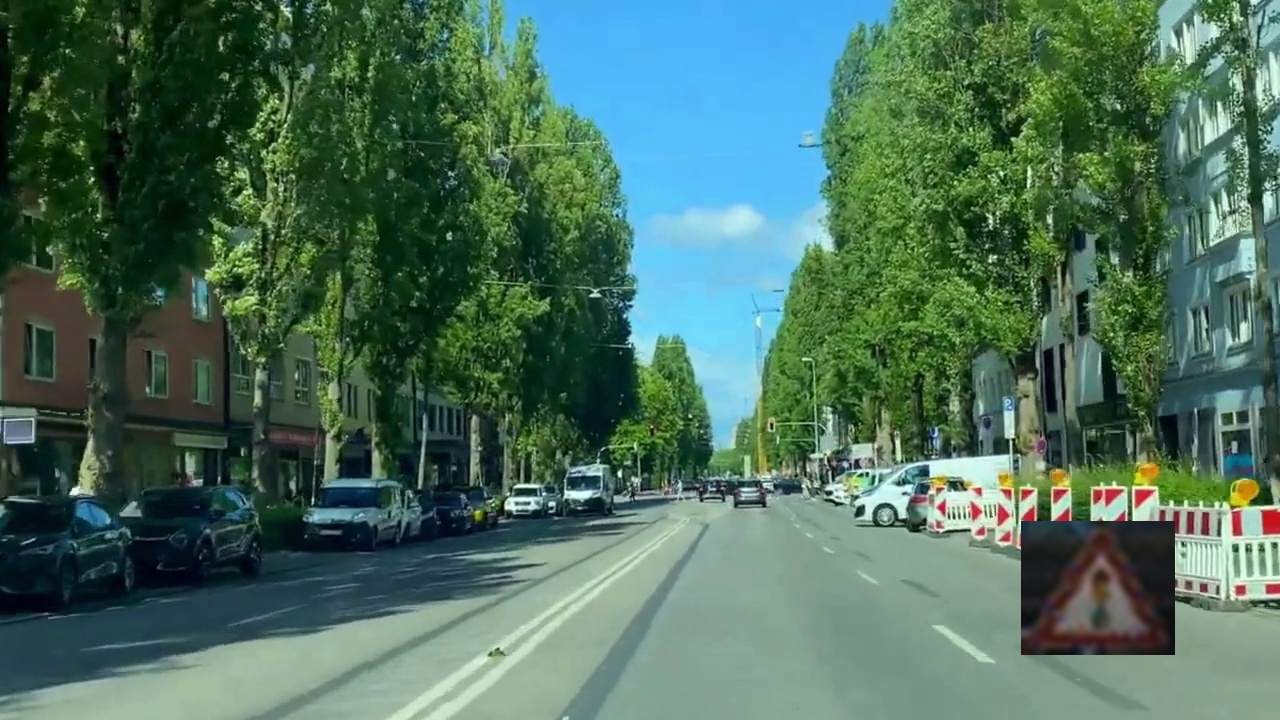Signals: (1021, 521, 1175, 655)
